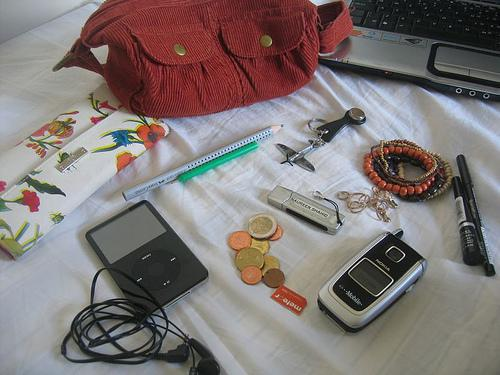phone: (314, 227, 431, 333)
